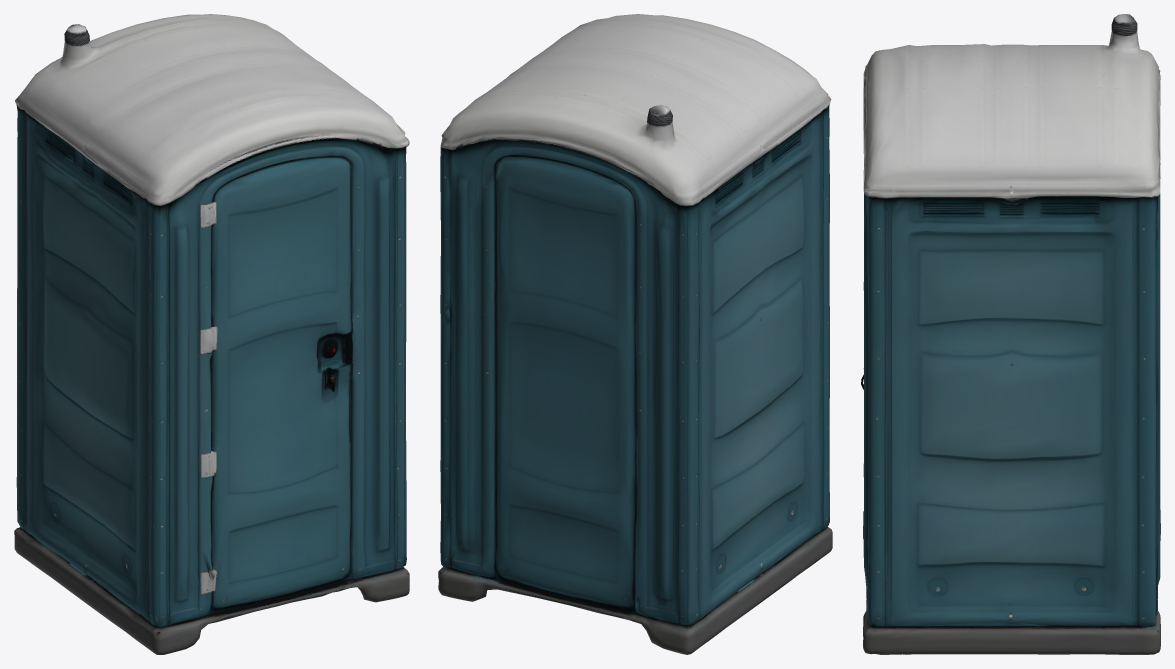
File: toilet_portable.glb
3 views of the same model, side by side, from view 1: azimuth 30°, elevation 25°; view 2: azimuth 150°, elevation 25°; view 3: azimuth 270°, elevation 25° (orthographic). The views are drawn at different scales.
Parts seen in each view (by area): view 1: Retopo_node_0.001; view 2: Retopo_node_0.001; view 3: Retopo_node_0.001.
Part boxes in pixels (x1,y1,x2,y2): Retopo_node_0.001: (14,14,409,654); Retopo_node_0.001: (438,14,832,654); Retopo_node_0.001: (861,14,1160,654).
Size of the model in its own units: 1.2 by 2.36 by 1.19.
Materials: 1 (1 with a texture image).
